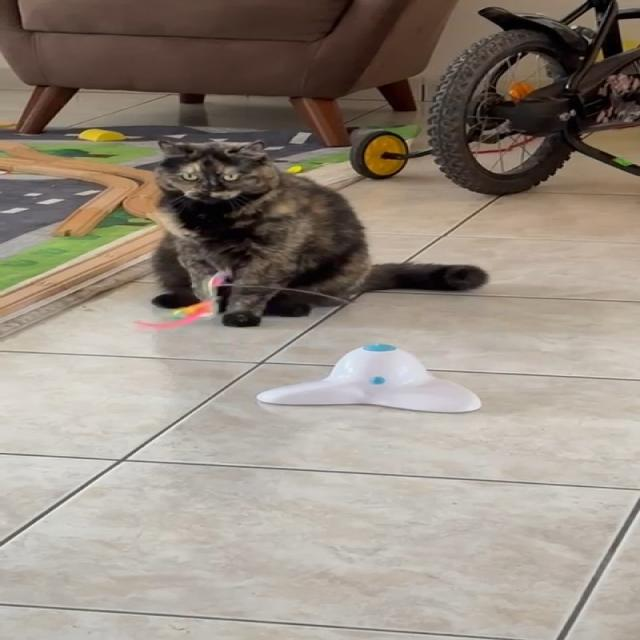authorized: (148, 138, 488, 328)
